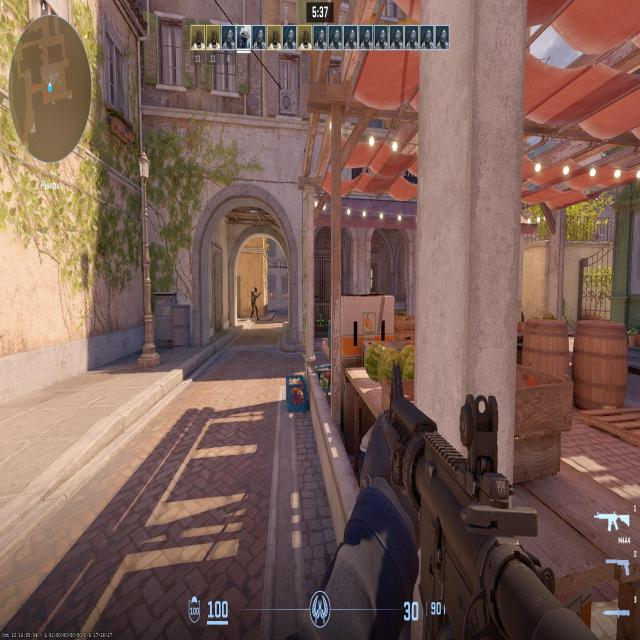CT: (252, 286, 258, 318)
CT_heat: (253, 286, 256, 292)
